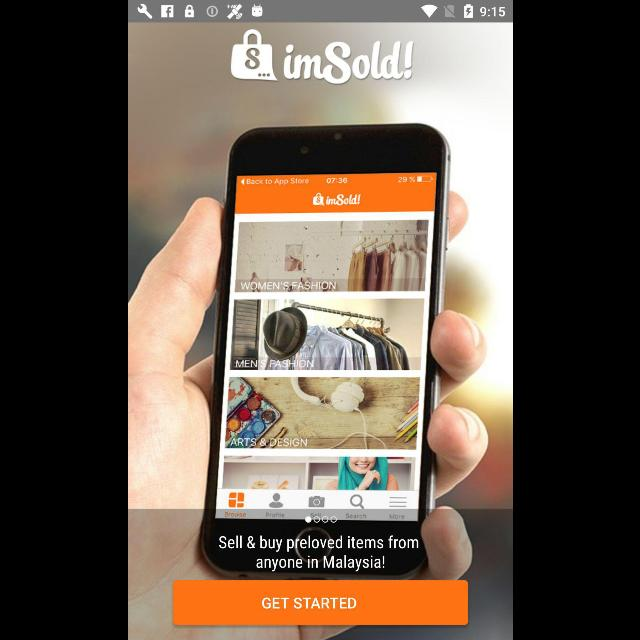backgroundimage: (128, 22, 512, 640)
image: (230, 30, 412, 84)
pageindicator: (304, 516, 336, 522)
text: (218, 535, 418, 571)
textbutton: (172, 580, 468, 626)
uppertaskbar: (128, 1, 512, 23)
